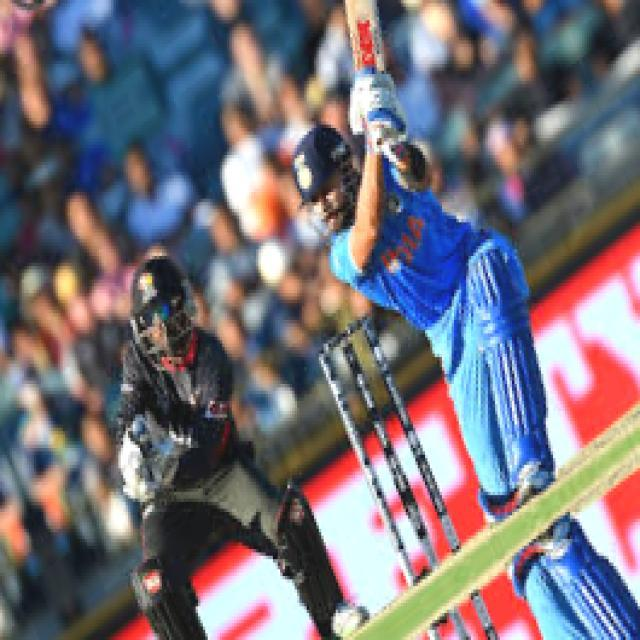bat: (341, 0, 390, 78)
